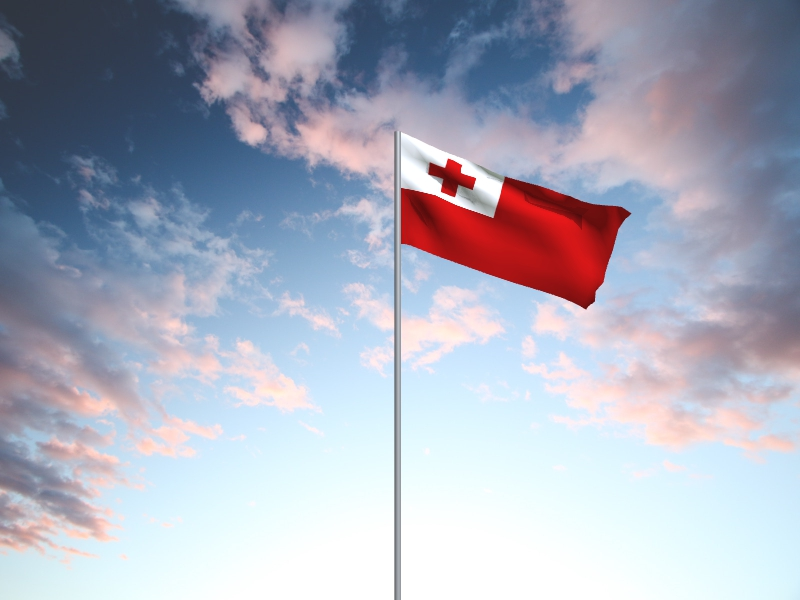to: (402, 134, 633, 311)
